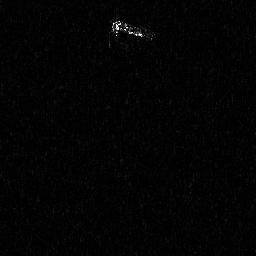ship: (109, 18, 155, 41)
